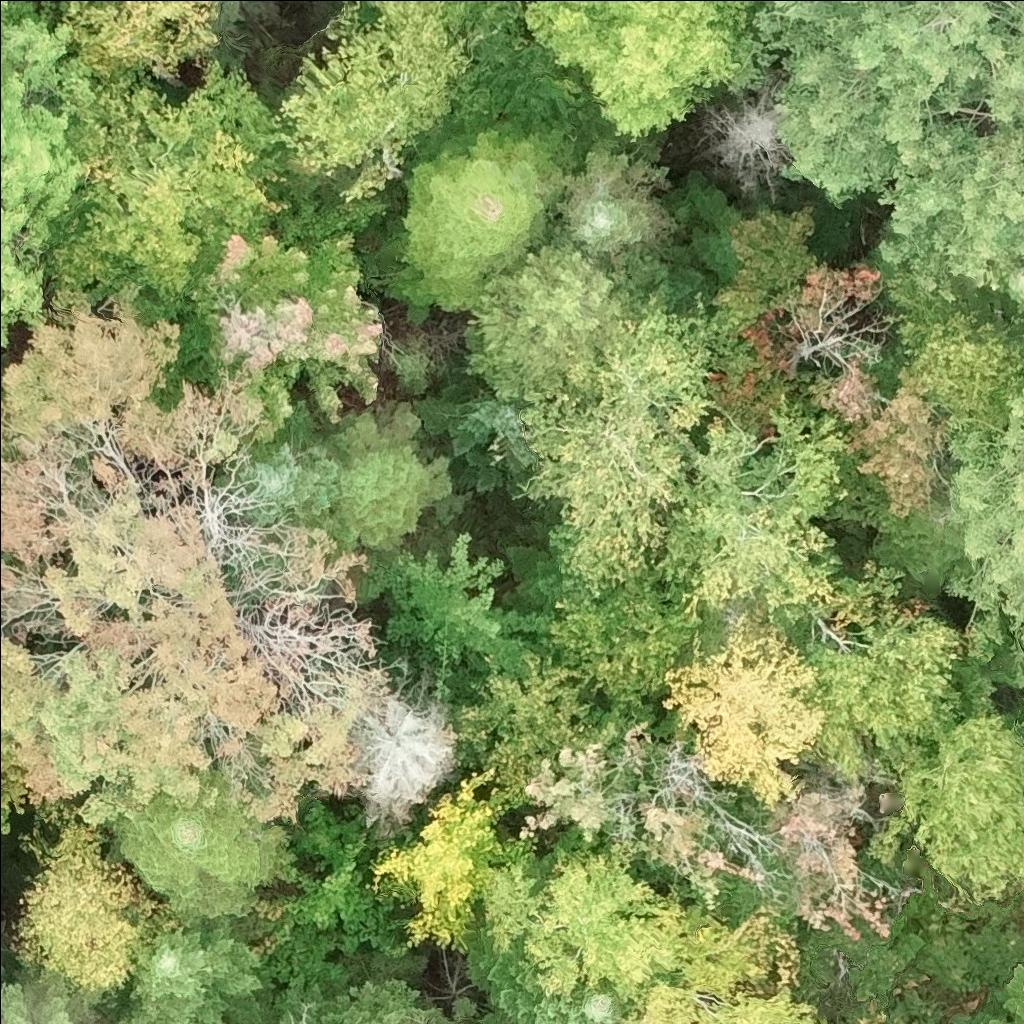crown: (0, 290, 385, 831), (515, 289, 730, 599), (655, 392, 906, 654), (48, 54, 296, 318), (748, 0, 1023, 208), (517, 702, 763, 910), (163, 223, 386, 446), (277, 0, 522, 201), (376, 110, 583, 324), (517, 0, 788, 145), (458, 214, 663, 404), (478, 834, 686, 1013), (0, 0, 96, 344), (658, 624, 827, 813), (869, 102, 1023, 305), (367, 767, 536, 951), (100, 770, 289, 934), (8, 818, 162, 1010), (364, 530, 553, 676), (803, 609, 966, 778), (936, 365, 1023, 667), (794, 354, 951, 518), (537, 567, 709, 715), (619, 900, 820, 1023), (896, 711, 1023, 903), (708, 204, 886, 340), (326, 399, 467, 560), (880, 263, 1023, 421), (759, 772, 891, 941), (447, 651, 596, 791), (101, 911, 278, 1023), (408, 351, 534, 496), (556, 135, 684, 275), (281, 832, 414, 956), (352, 693, 461, 841), (57, 0, 223, 97), (463, 929, 619, 1023), (233, 401, 342, 526), (491, 498, 581, 618), (696, 85, 789, 201), (659, 171, 750, 287), (271, 972, 459, 1023), (0, 964, 102, 1023), (654, 241, 722, 312), (951, 966, 1023, 1023), (0, 723, 29, 834), (964, 263, 1023, 313), (50, 0, 59, 18), (0, 964, 9, 981)
